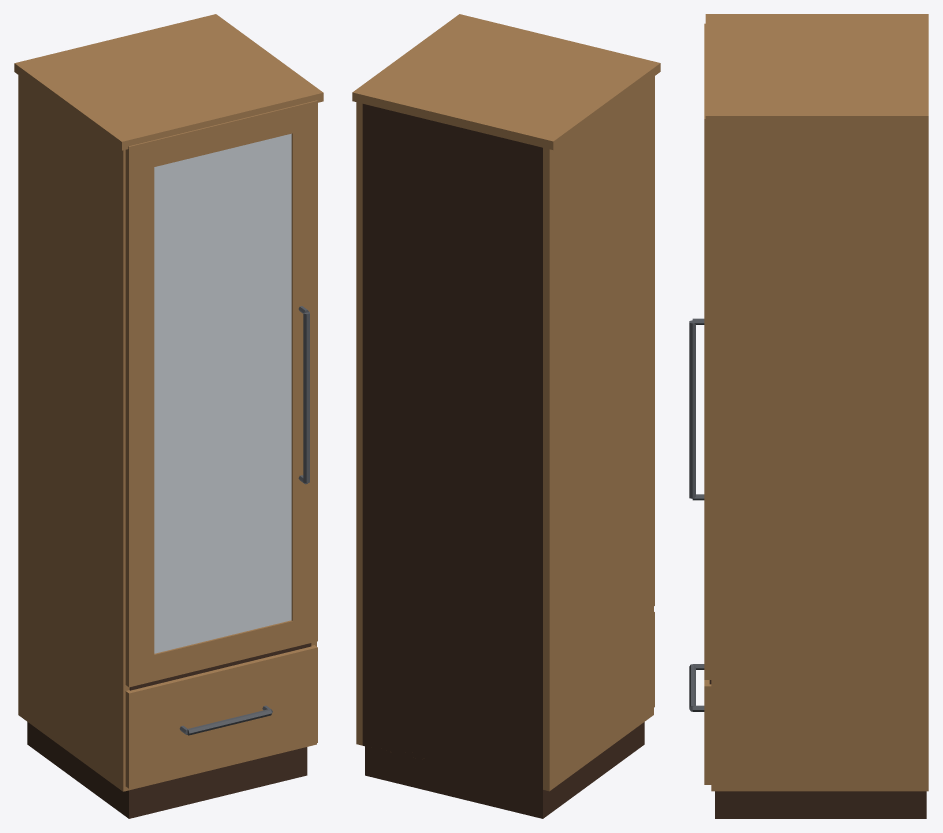
Rendered from FN_Wardrobe_Single.obj.
The picture shows the model from 3 angles, left to right: view 1: azimuth 30°, elevation 25°; view 2: azimuth 150°, elevation 25°; view 3: azimuth 270°, elevation 25°; orthographic projection. The views are drawn at different scales.
Parts seen in each view (by area): view 1: FN_Wardrobe_Single; view 2: FN_Wardrobe_Single; view 3: FN_Wardrobe_Single.
Part boxes in pixels (x1,y1,x2,y2): FN_Wardrobe_Single: (14, 14, 323, 818); FN_Wardrobe_Single: (352, 14, 660, 818); FN_Wardrobe_Single: (689, 14, 928, 818).
Bounding box in the file's own units: 0.624 × 2.02 × 0.619.
1 material, 1 textured.
